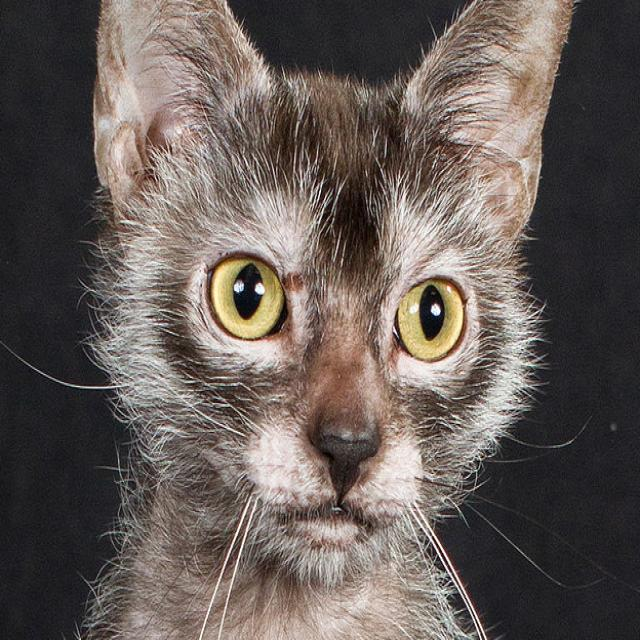Lykoi: (35, 0, 583, 640)
